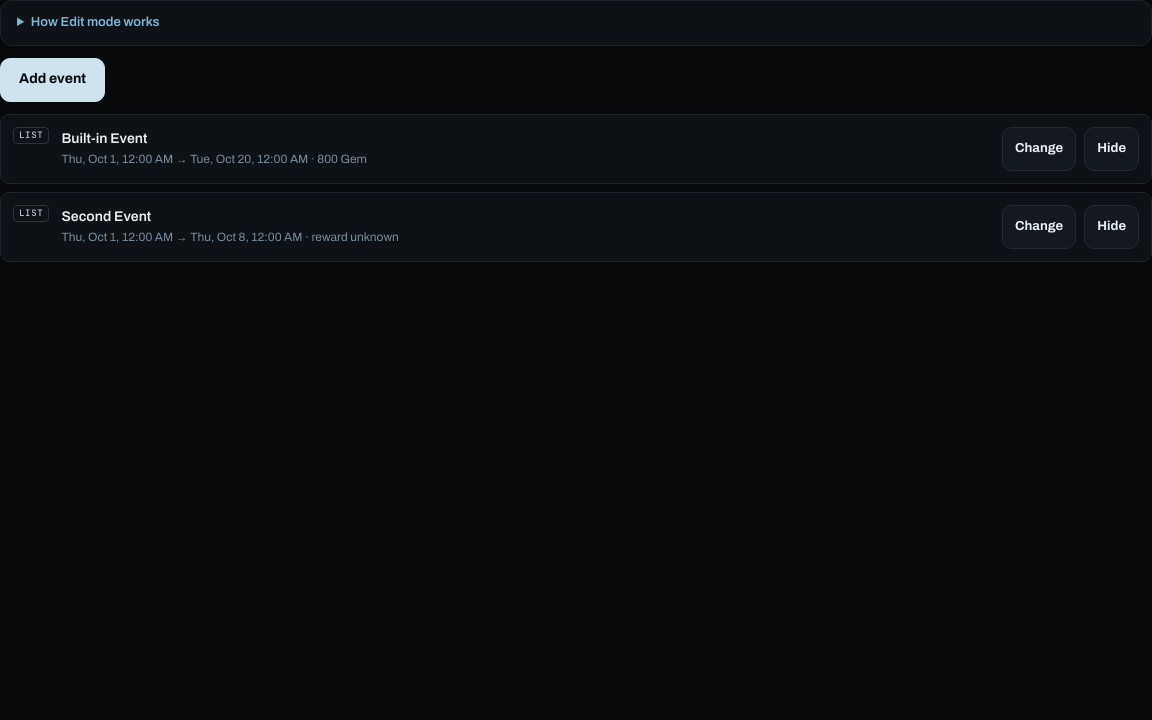
Test case: Edit mode: your own items on top of the built-in list › the screen: a bad form says what to fix and saves nothing
This screenshot has width=1152, height=720.
Expected: the text "Built-in Event" is shown, [62, 131, 147, 146]
Click the button "Add event" at (53, 80), box [0, 58, 105, 102]
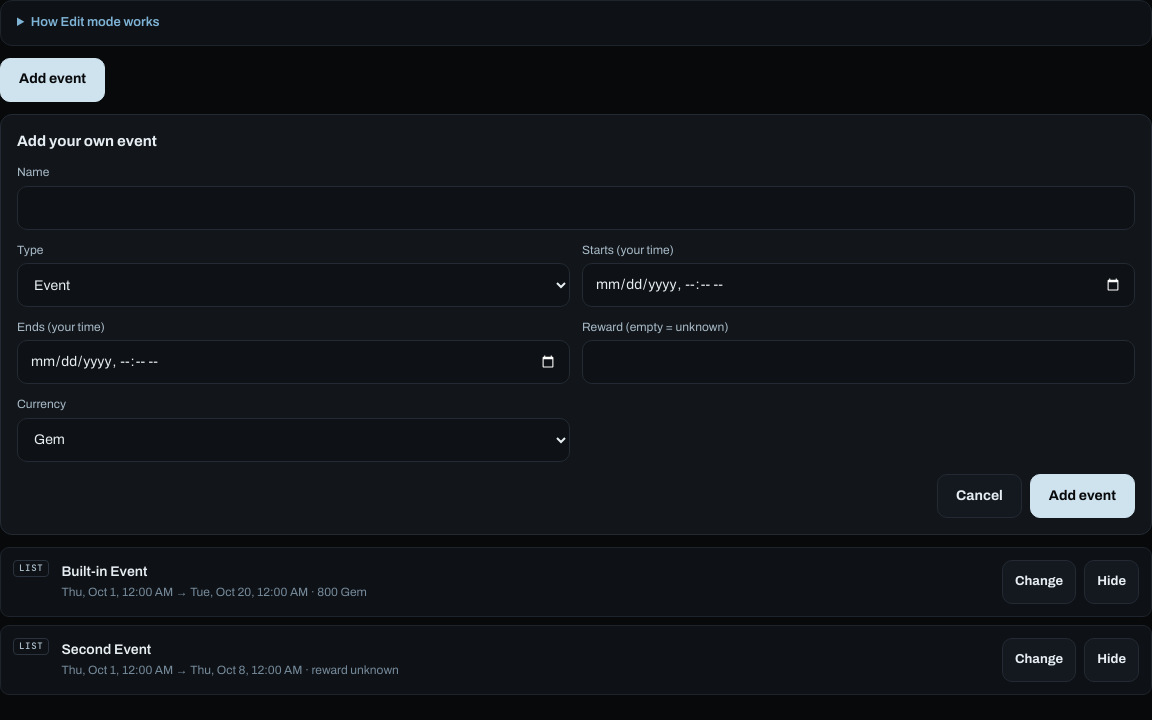
Type "No dates" into the field labelled "Name" at (576, 208), box [17, 186, 1135, 230]
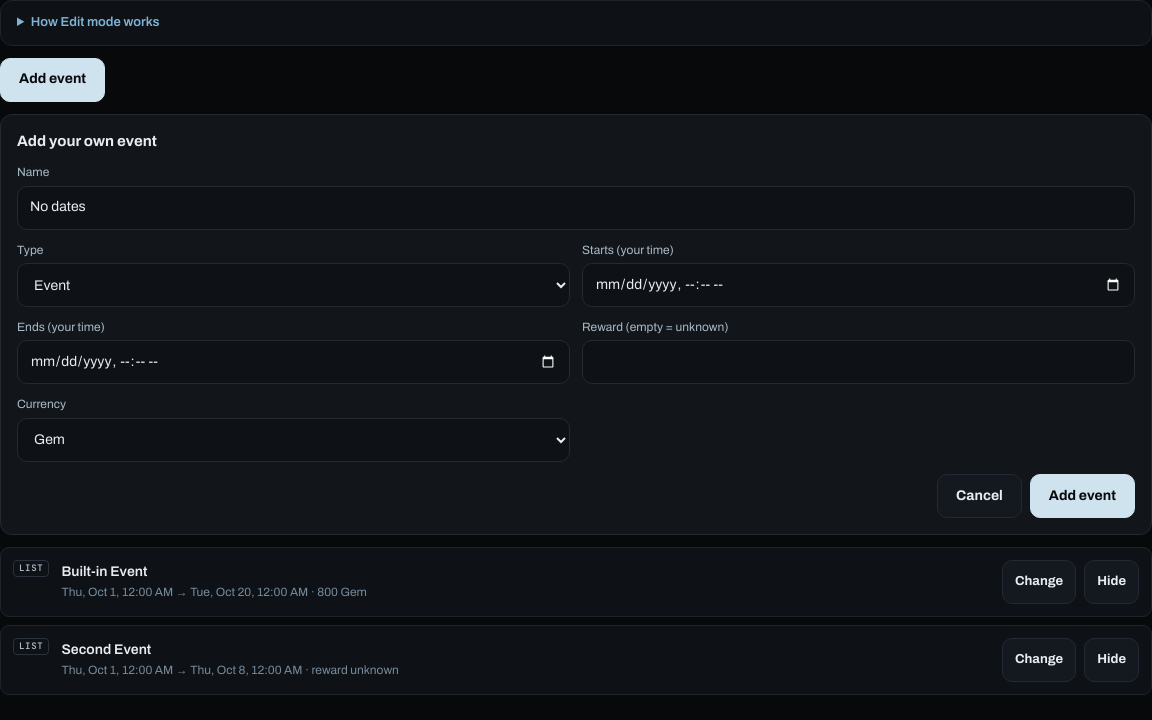
Submit the form named "Add event", box [0, 114, 1151, 535]
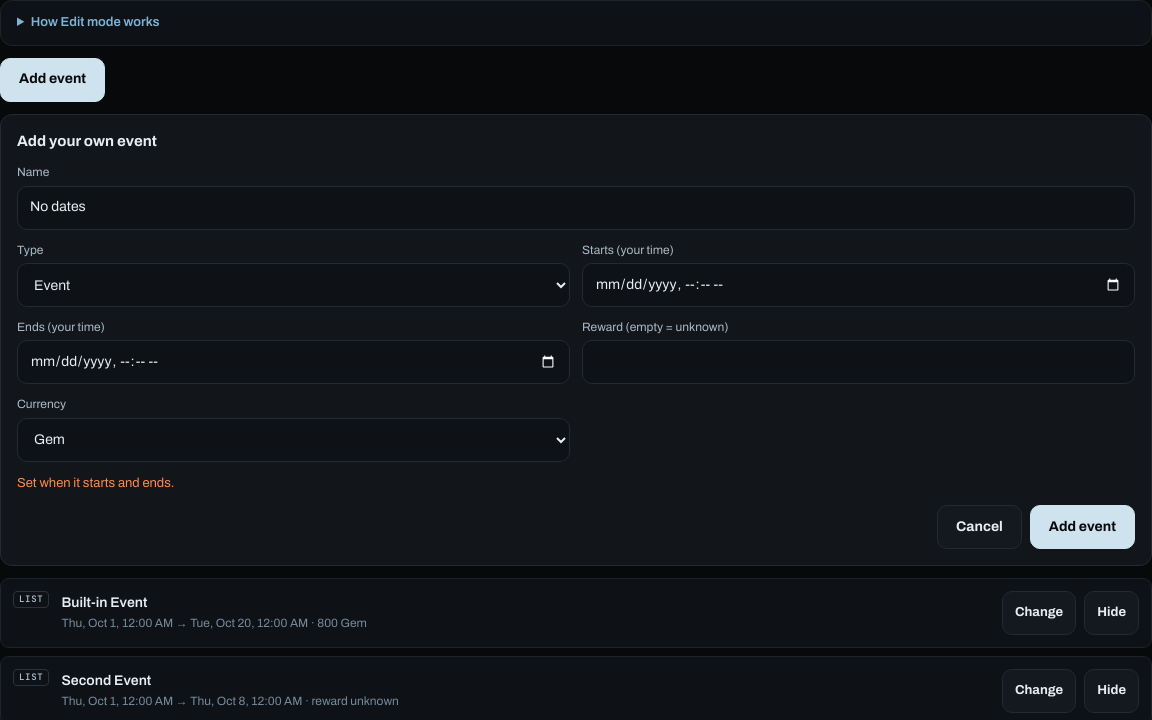
Result: the message reads "Set when it starts and ends." at [17, 476, 174, 490]
